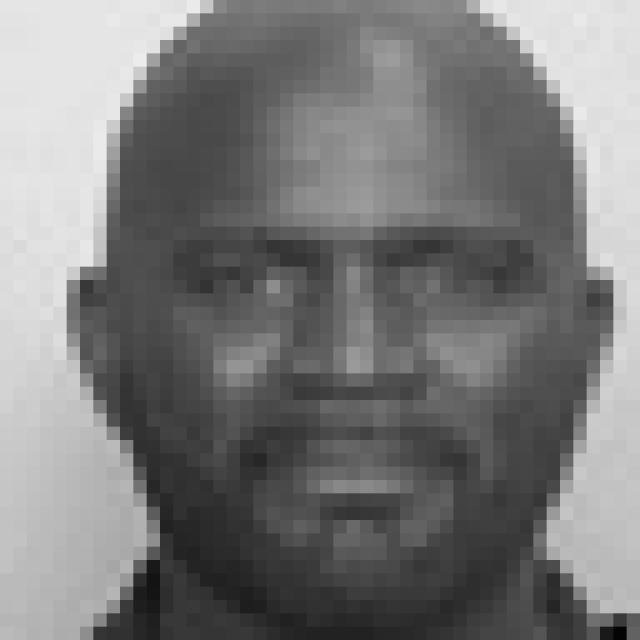neutral: (172, 220, 534, 509)
